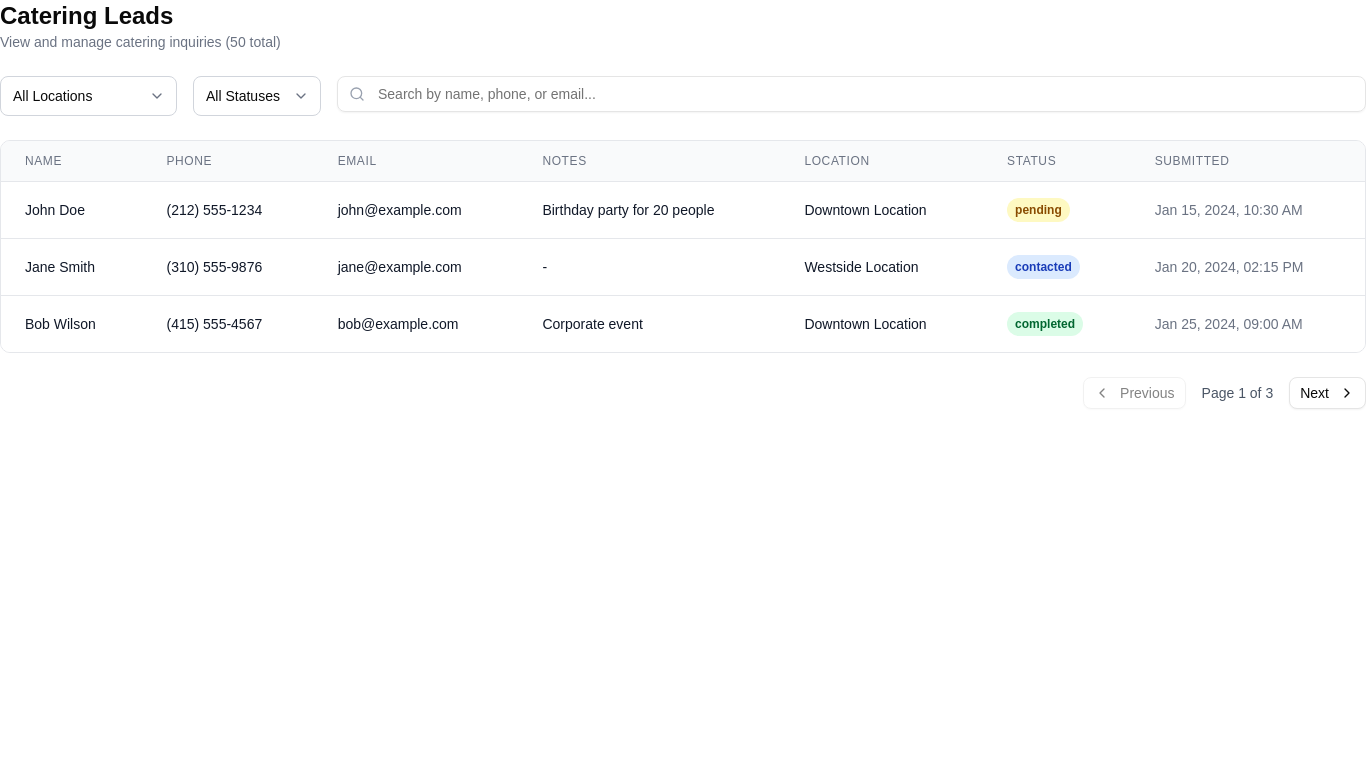
Test: CateringLeadsClient › Lead Detail Modal › should open modal when clicking a lead row
Click the text "John Doe" at (683, 210), box x1=1 y1=182 x2=1365 y2=238
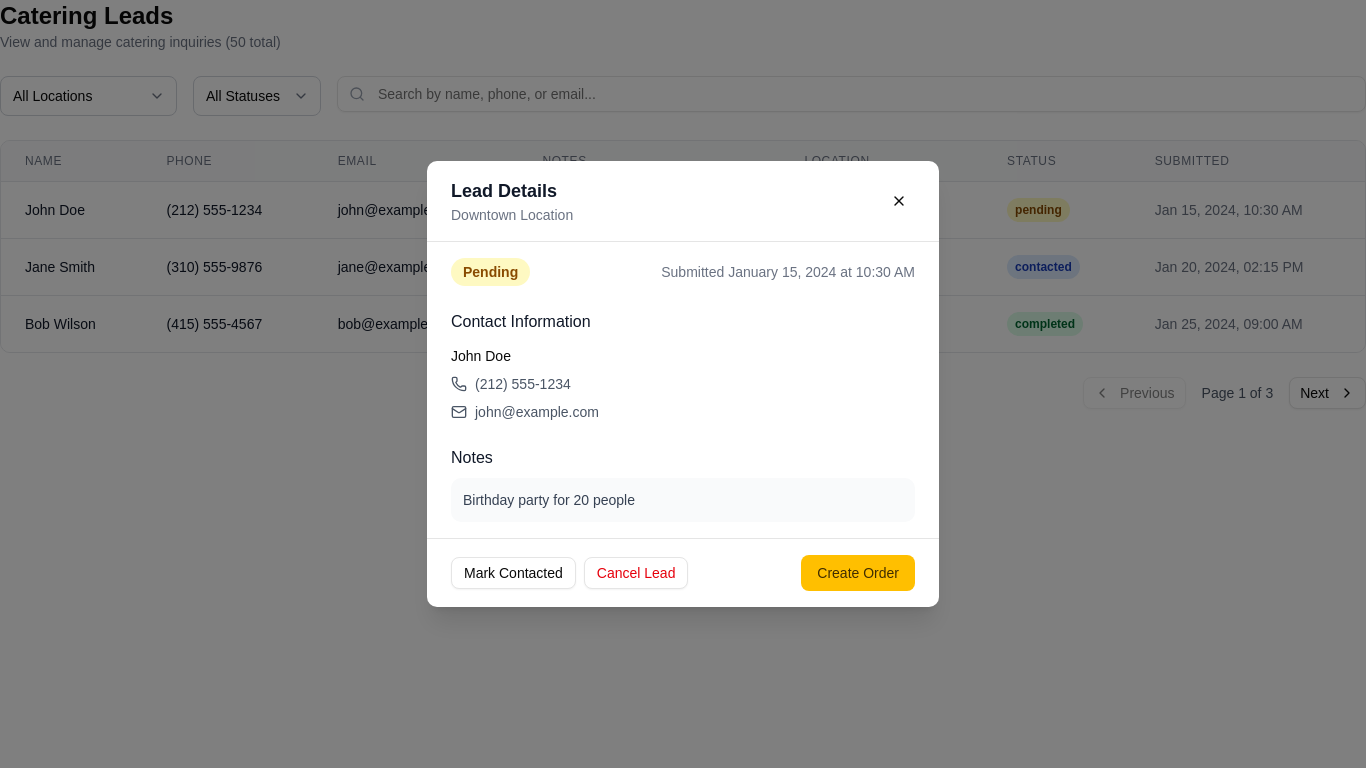
Check: the heading "Lead Details" is shown, box x1=451 y1=177 x2=573 y2=205
Check: the heading "Contact Information" is shown, box x1=451 y1=313 x2=591 y2=330
